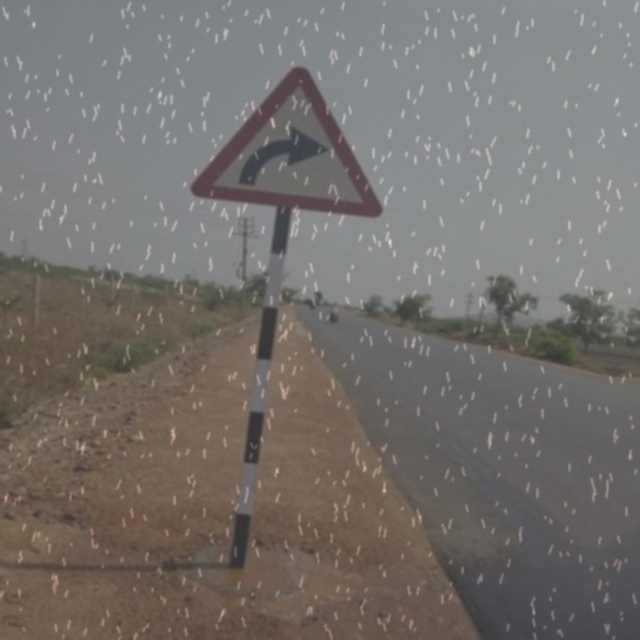Right_Hand_Curve: (190, 55, 392, 216)
